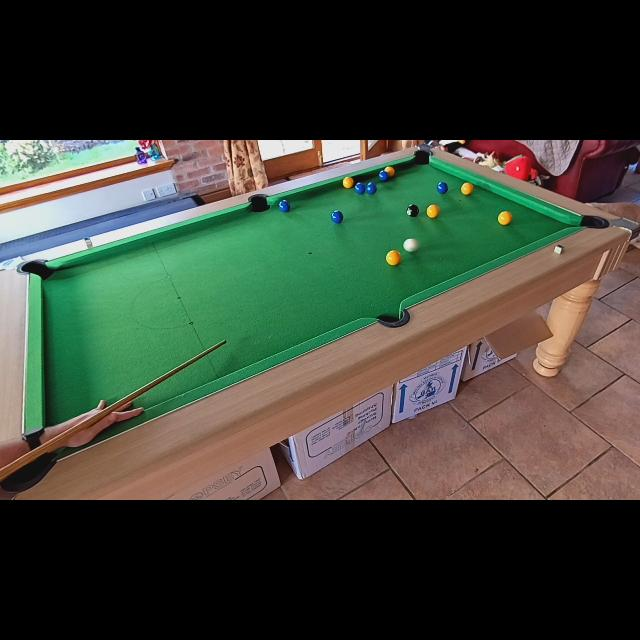Ball: (403, 238, 419, 252), (386, 250, 400, 266), (498, 211, 512, 225), (427, 205, 439, 218), (461, 183, 474, 195), (331, 210, 343, 223), (278, 200, 290, 212), (354, 183, 366, 195), (437, 182, 449, 194), (407, 204, 419, 216), (342, 177, 353, 189), (367, 183, 378, 195), (385, 166, 395, 178), (379, 170, 389, 182)
